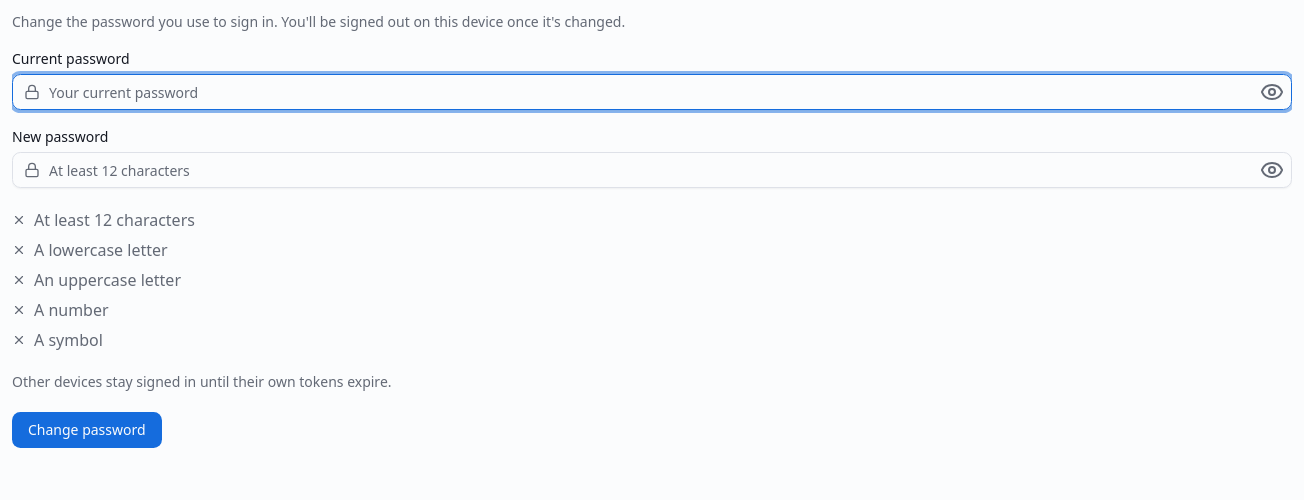
Scenario: ChangePasswordForm › requires the current password before hitting the API
Type "DemoPass123!" into the password field labelled "New password" at (652, 170), box [12, 152, 1292, 188]
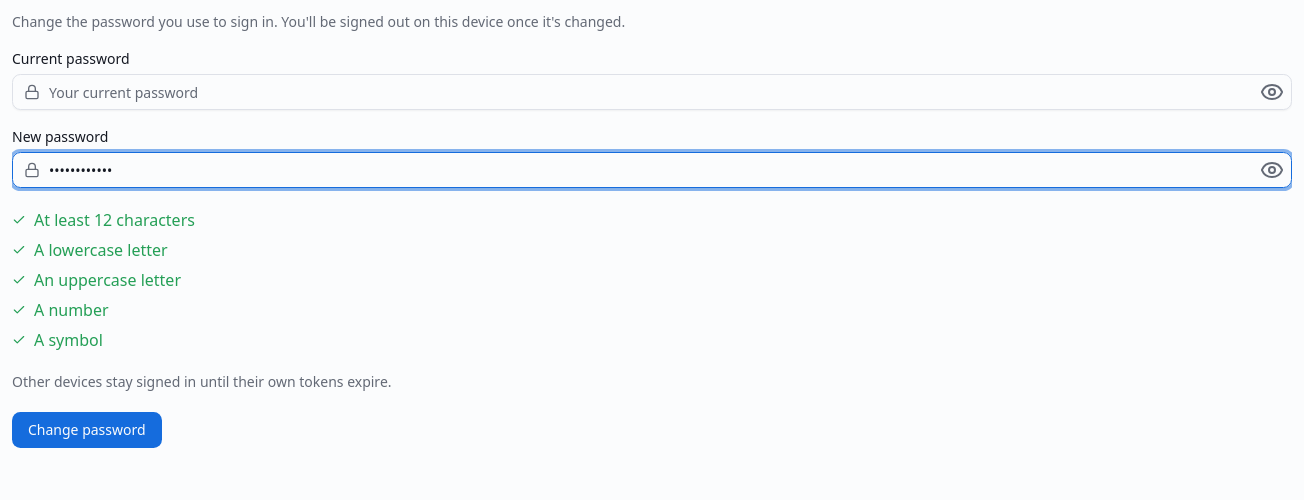
Click the button "Change password" at (87, 430), box [12, 412, 162, 448]
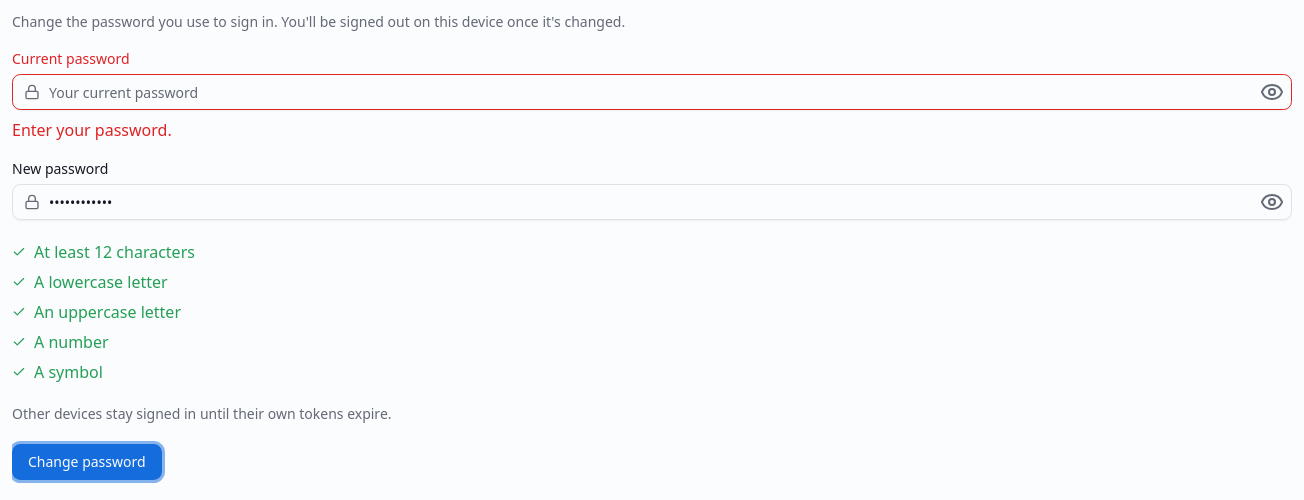
Expected: the text "Enter your password." is shown, [12, 119, 172, 141]
